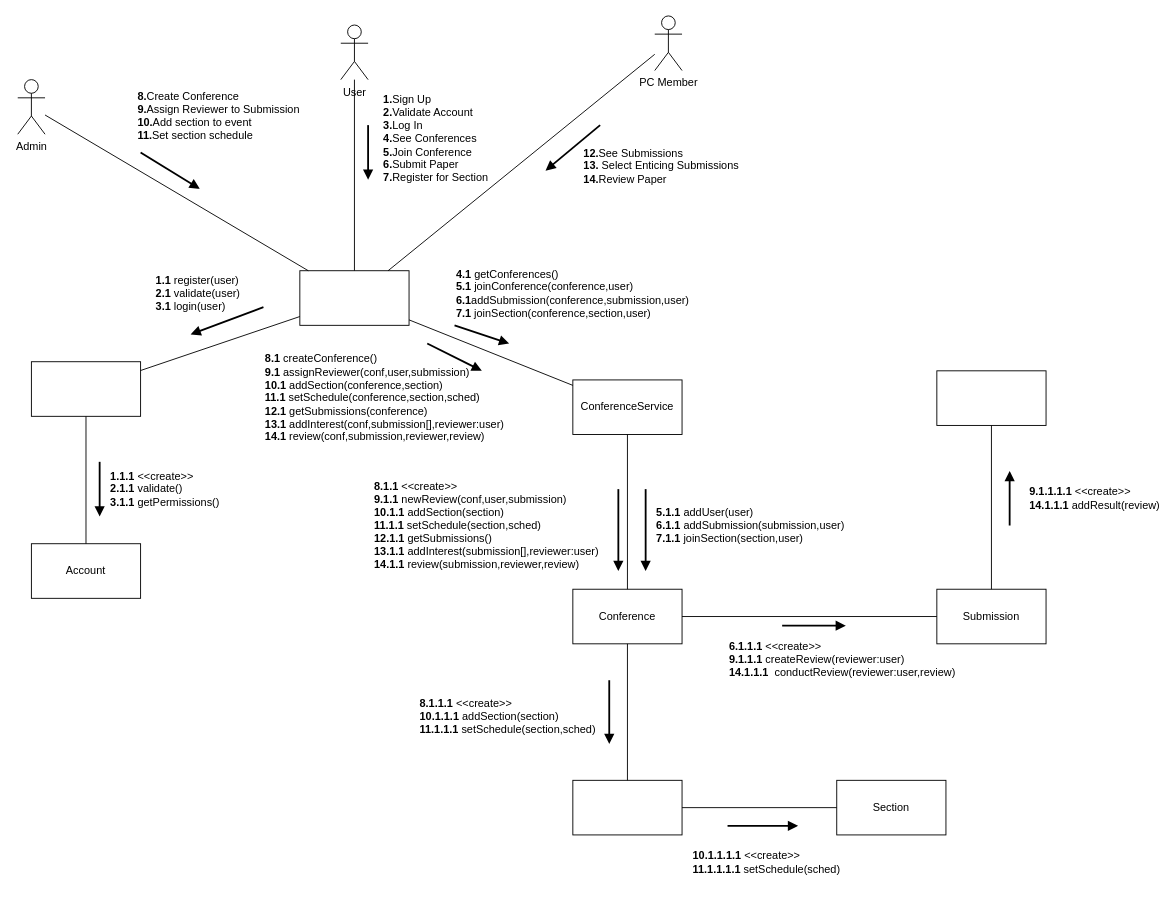
Image size: 1175x905. Some labels were removed from this diagram. The box of each missing label's shape, as (x1, y1, x2, y2) in pixels:
Event: (572, 779, 682, 835)
Review: (936, 370, 1046, 425)
UserInterface: (299, 270, 409, 325)
UserService: (30, 361, 141, 416)
